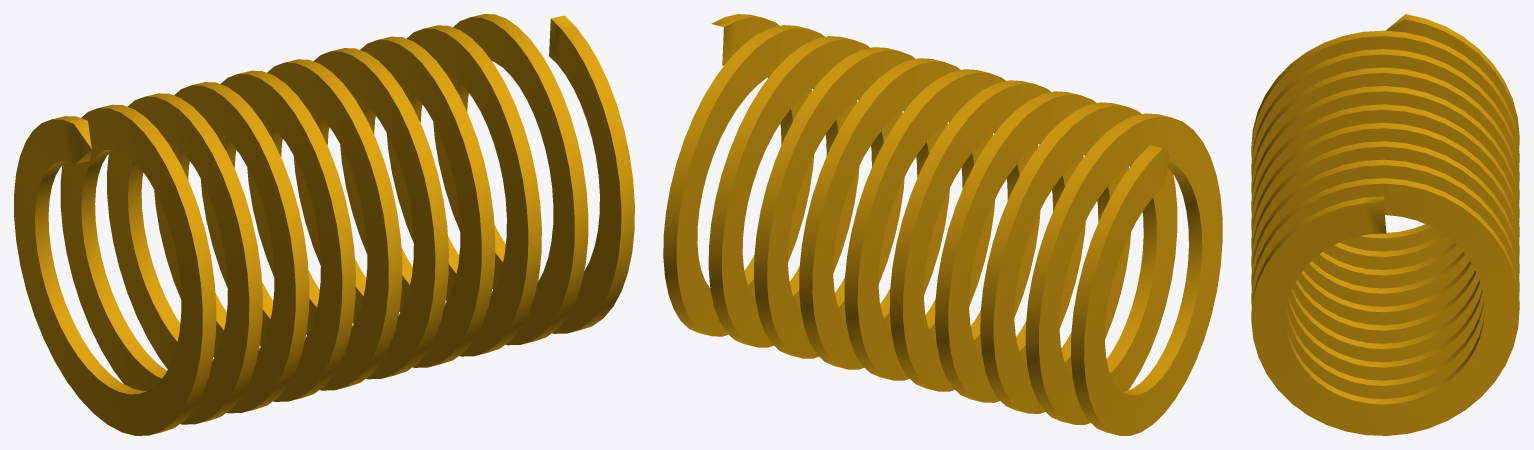
3 renders of one model, left to right at view 1: azimuth 30°, elevation 25°; view 2: azimuth 150°, elevation 25°; view 3: azimuth 270°, elevation 25°, orthographic. The views are drawn at different scales.
Parts seen in each view (by area): view 1: coil-spring-kuning; view 2: coil-spring-kuning; view 3: coil-spring-kuning.
Boxes of the visible parts, box(x1,y1,x2,y2) form: coil-spring-kuning: box(14, 14, 634, 435); coil-spring-kuning: box(663, 14, 1222, 435); coil-spring-kuning: box(1251, 14, 1519, 435).
Bounding box in the file's own units: 0.6673 × 0.3999 × 0.3999.
